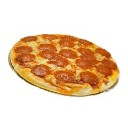pepperonipizza: (10, 32, 122, 94)
